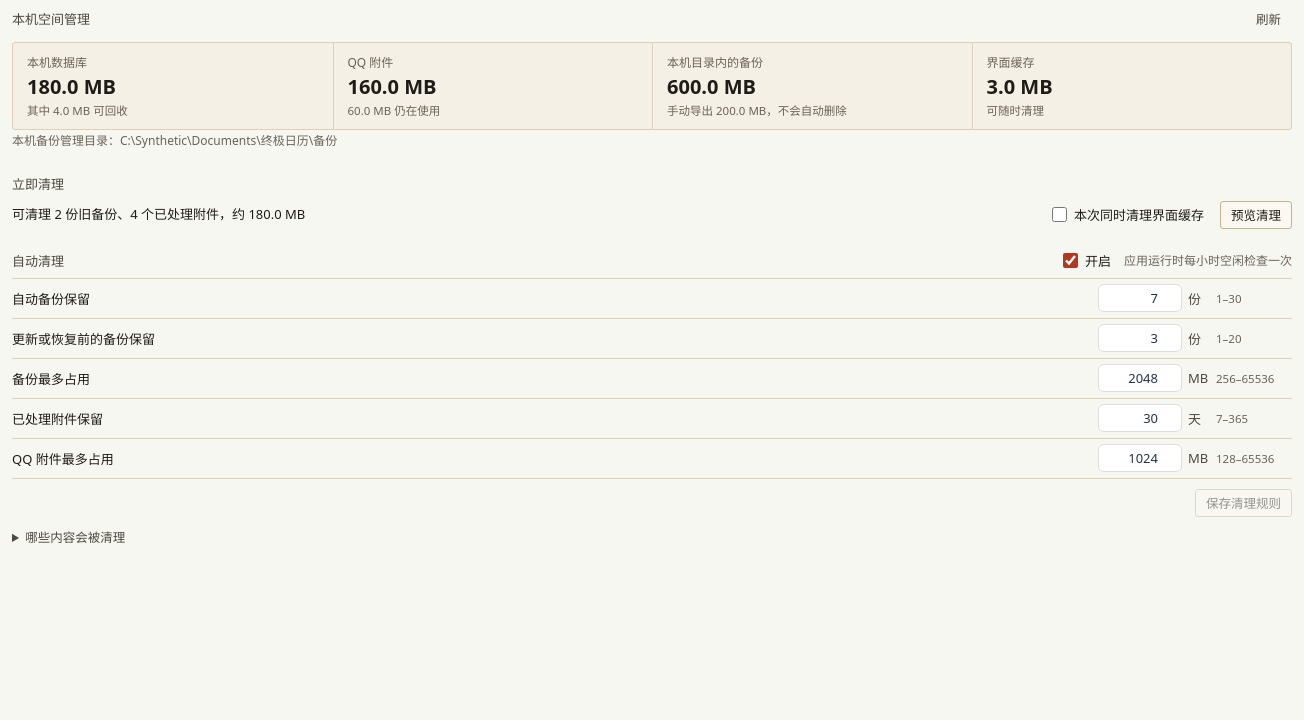
Test: space management › saves rules separately without submitting the surrounding settings form or running cleanup
The image size is (1304, 720).
expect the text "180.0 MB" is shown: met, box [27, 73, 116, 100]
Replace the text in the number field named "已处理附件保留" with "60" at (1140, 418), box [1098, 404, 1182, 432]
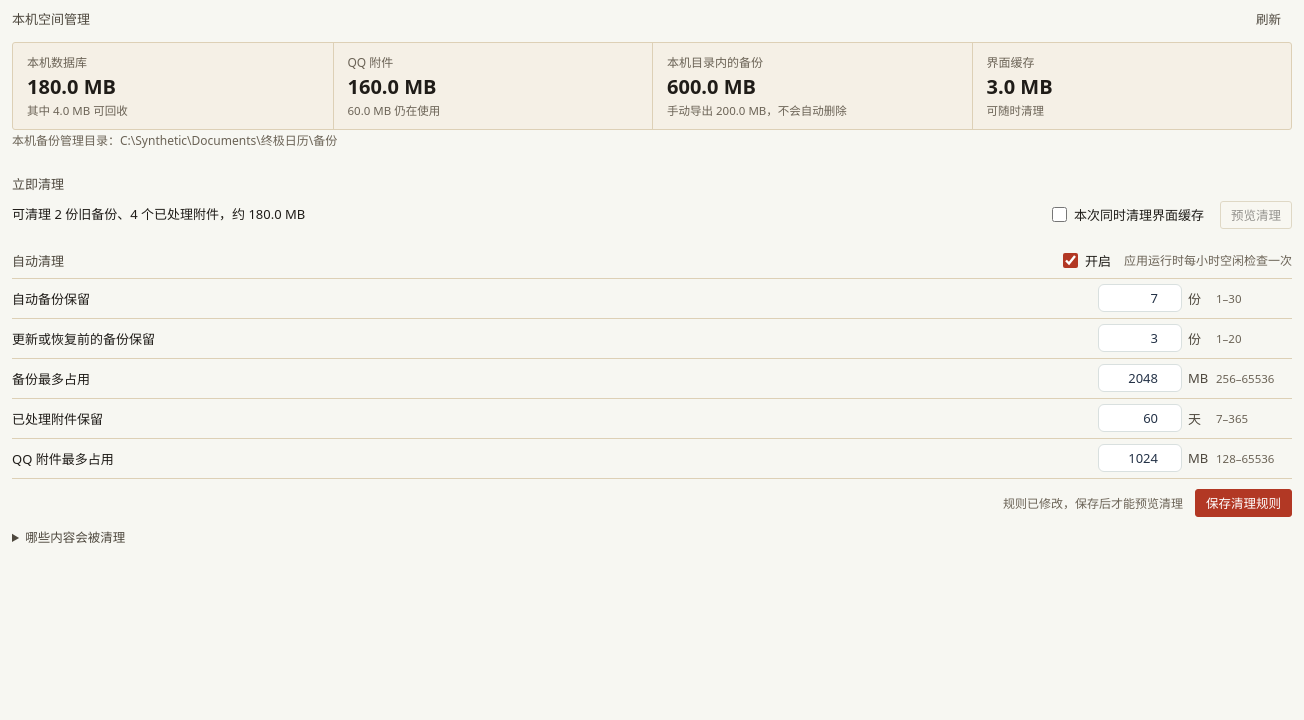
expect the button "预览清理" is disabled: met, box [1220, 201, 1292, 229]
Click the button "保存清理规则" at (1244, 503), box [1195, 489, 1292, 517]
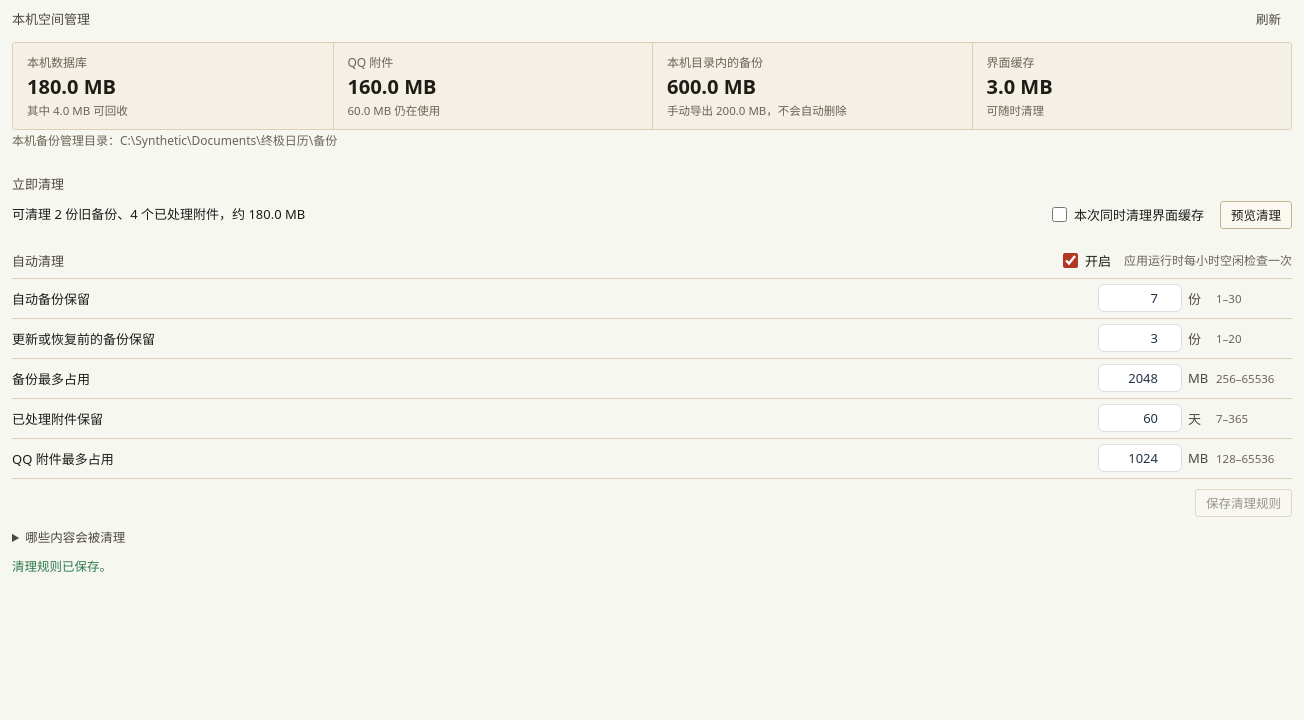
expect the text "清理规则已保存。" is shown: met, box [12, 558, 112, 575]
expect the button "预览清理" is enabled: met, box [1220, 201, 1292, 229]
